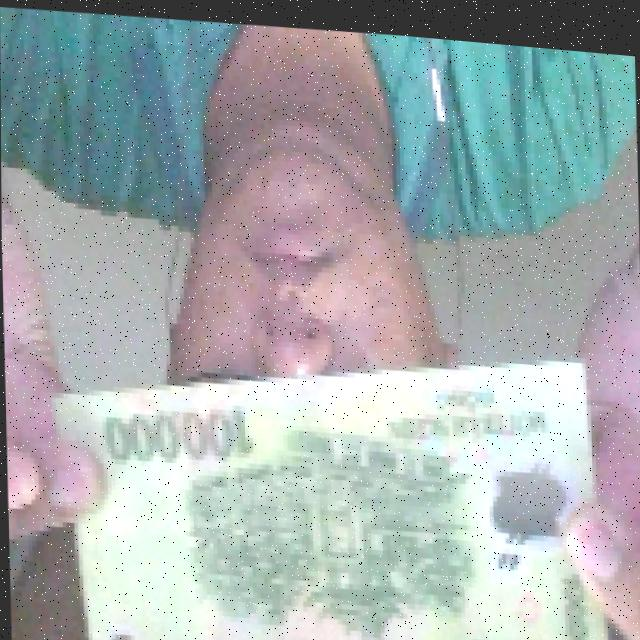100 000 VND: (44, 308, 619, 640)
